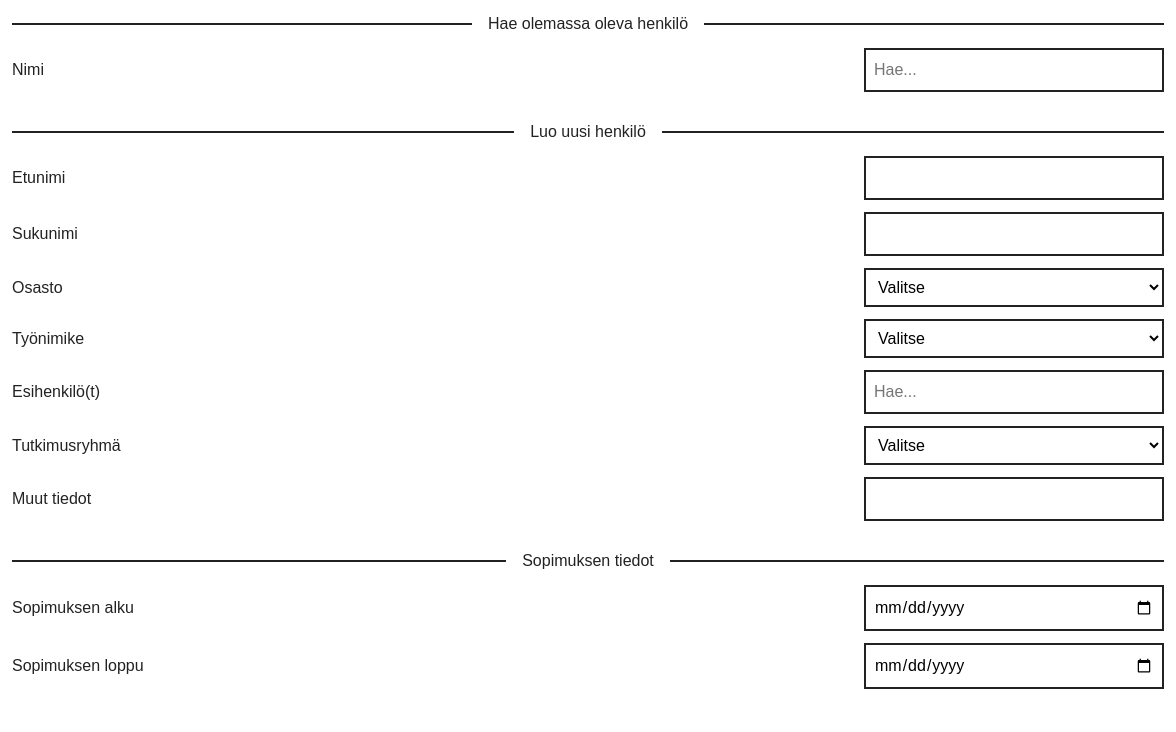
Test case: PersonForm › populates form fields when existing person is selected
Type "Joku" into the field labelled "Nimi" at (1014, 70), box [864, 48, 1164, 92]
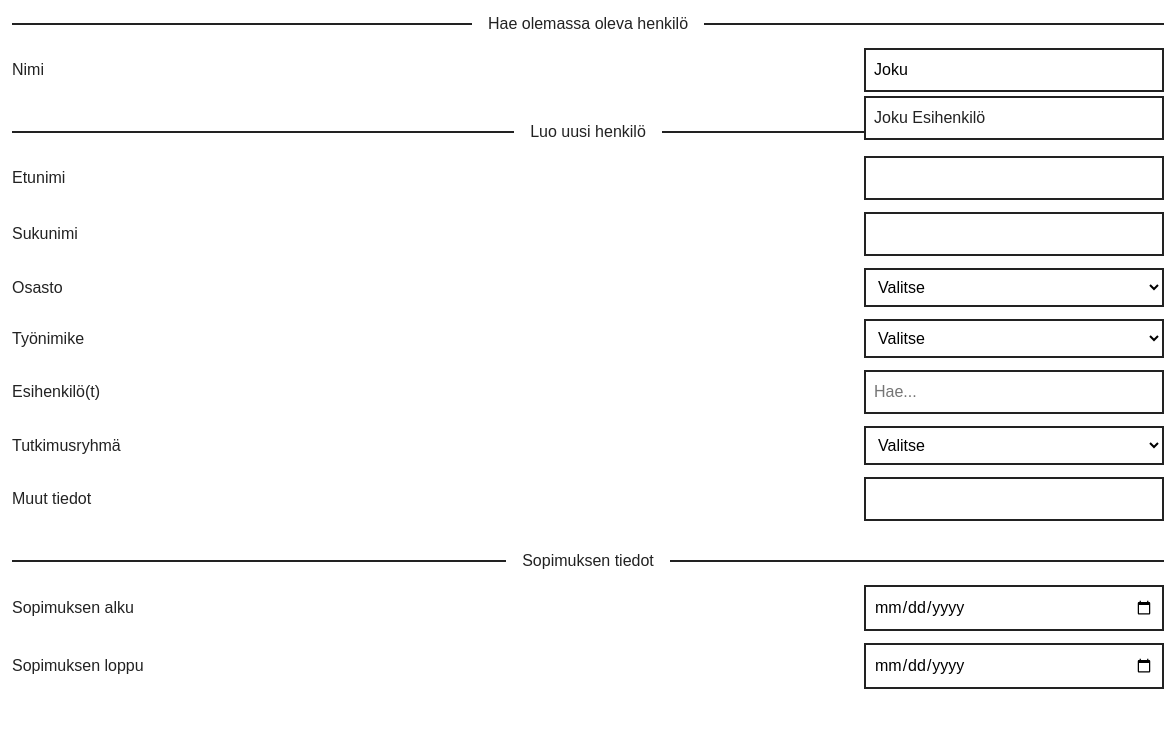
Expected: the option "Joku Esihenkilö" is shown
Click the option "Joku Esihenkilö" at (930, 118), box [874, 109, 985, 126]
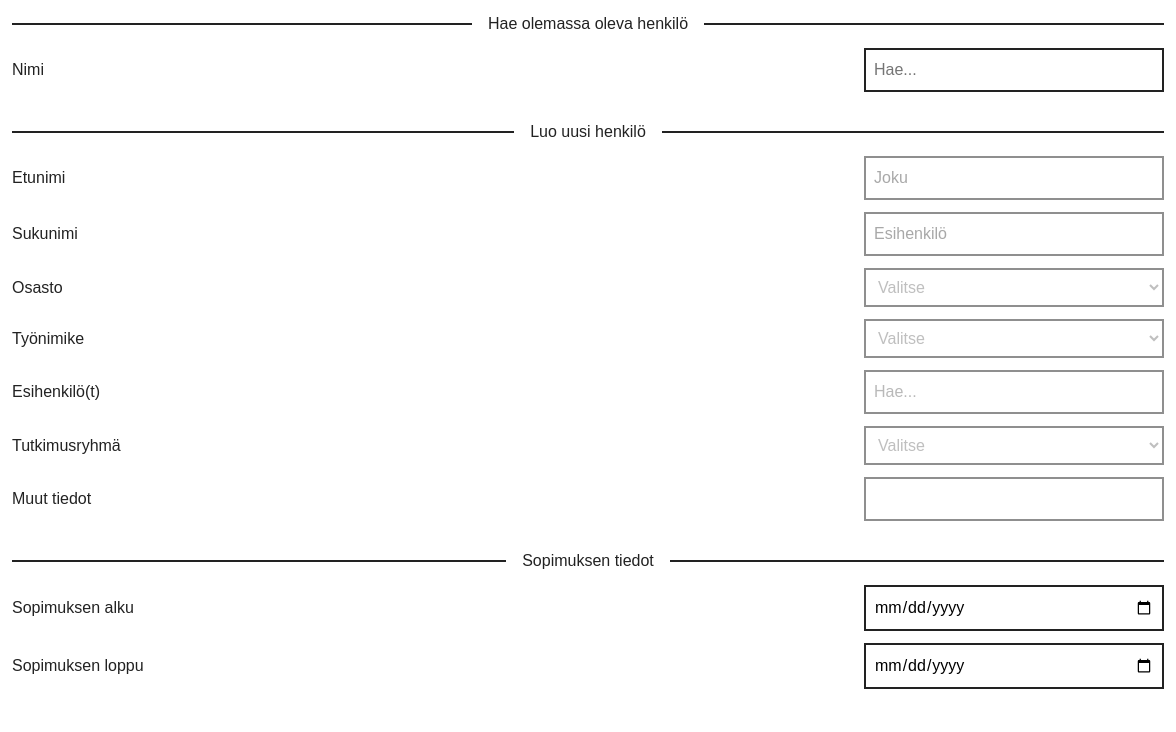
Expected: the field showing "Joku" holds "Joku", [864, 156, 1164, 200]
Expected: the field showing "Esihenkilö" holds "Esihenkilö", [864, 212, 1164, 256]
